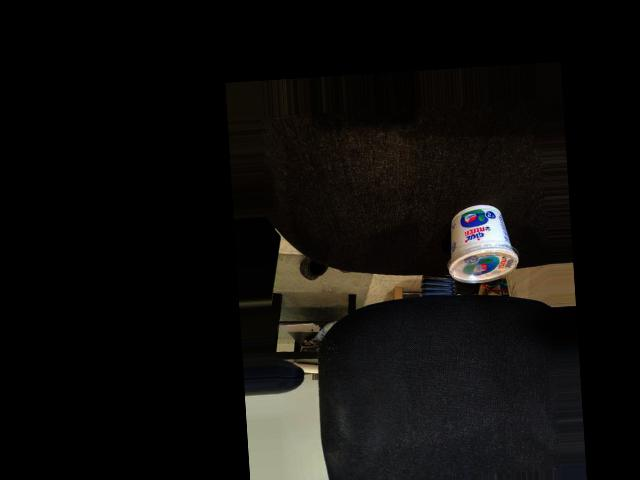cotage: (440, 199, 520, 286)
